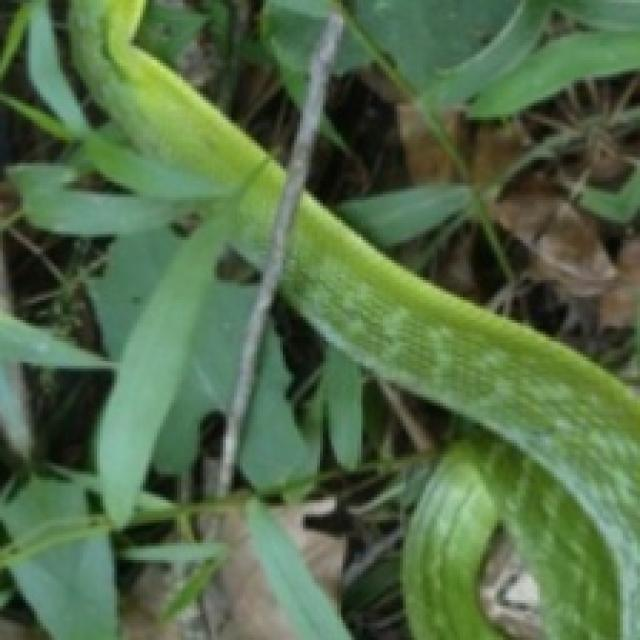red-tailed green ratsnake: (286, 195, 640, 640), (71, 0, 283, 263), (74, 0, 284, 264)
